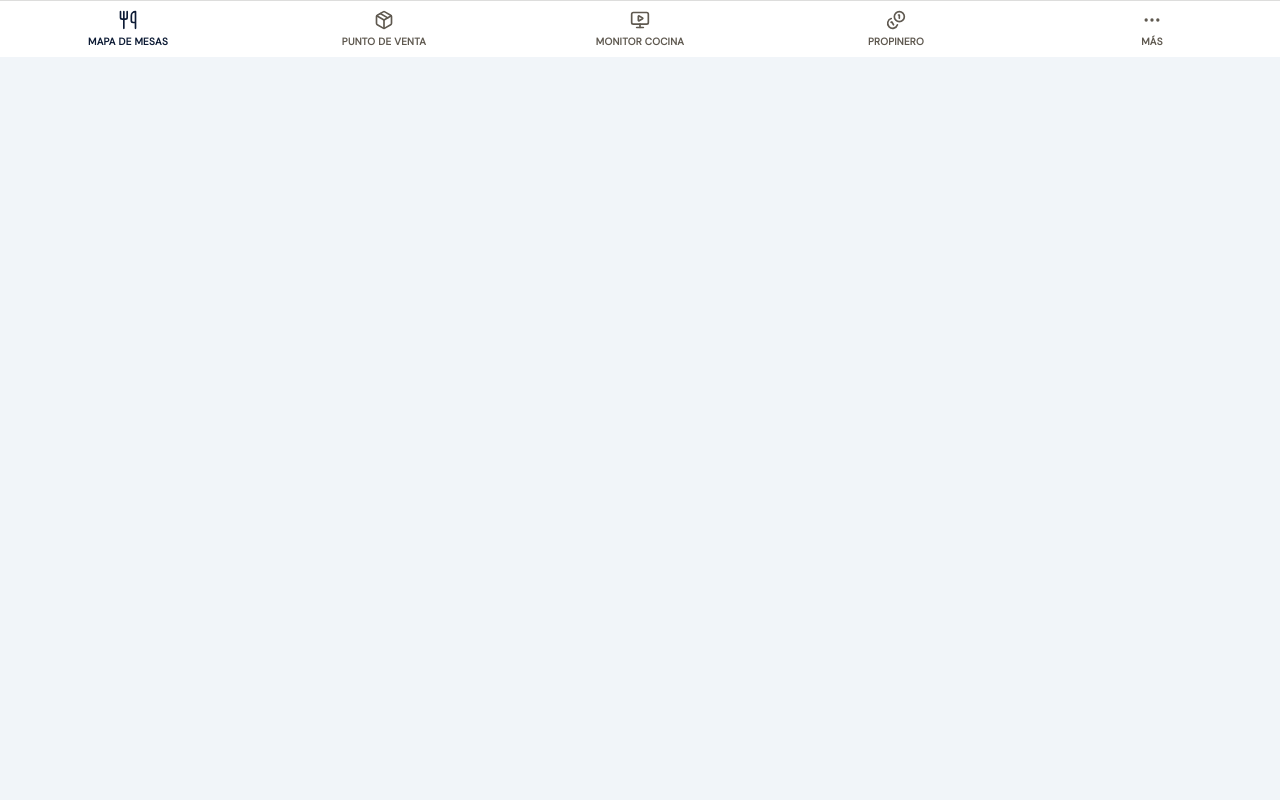
la barra de pestañas › «Más» abre una hoja con exactamente los que no caben
Click the button "Más" at (1152, 29), box [1024,1,1279,57]
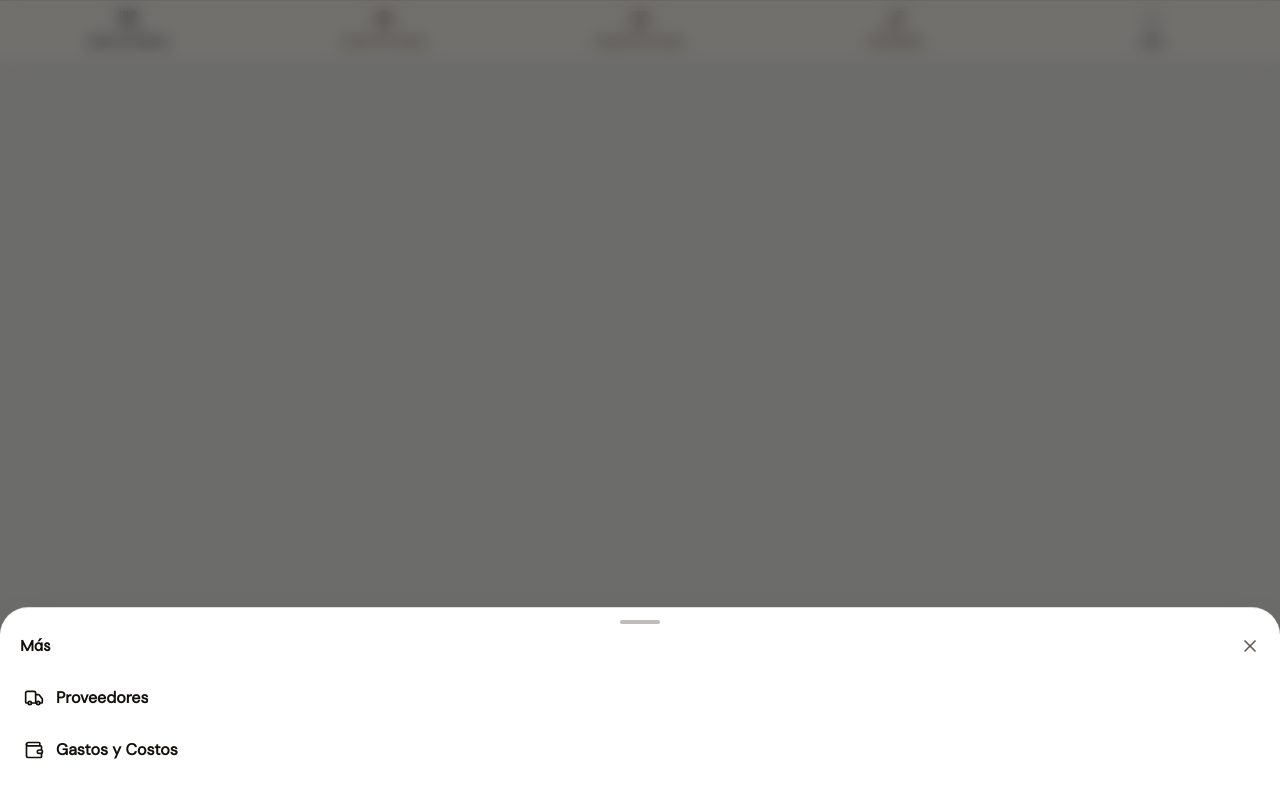
expect the text "Proveedores" is shown: met, box [56,686,148,710]
expect the text "Gastos y Costos" is shown: met, box [56,738,178,762]
